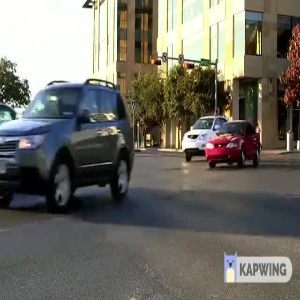car: (207, 118, 262, 170)
suv: (1, 77, 142, 205), (175, 109, 213, 155)
